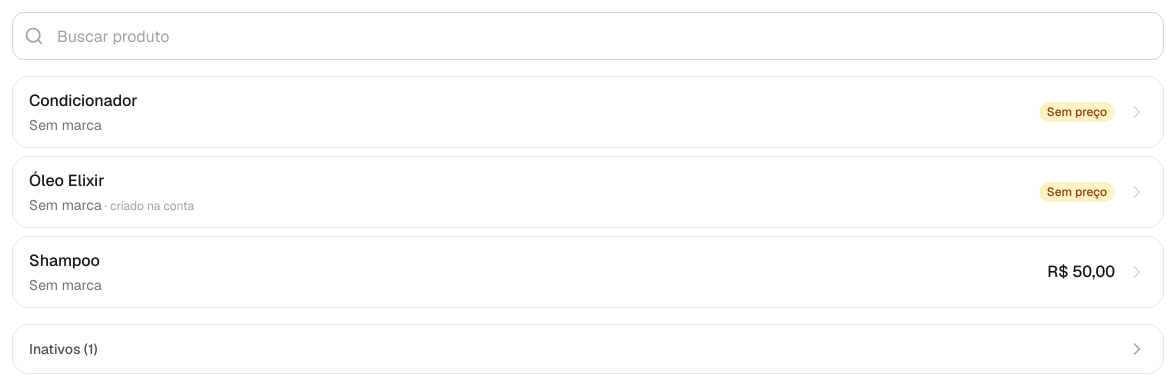
ListaProdutos › busca ignorando acento e caixa
This screenshot has width=1176, height=391.
Type "OLEO" into the search field labelled "Buscar produto" at (588, 36), box left=12, top=12, right=1164, bottom=60
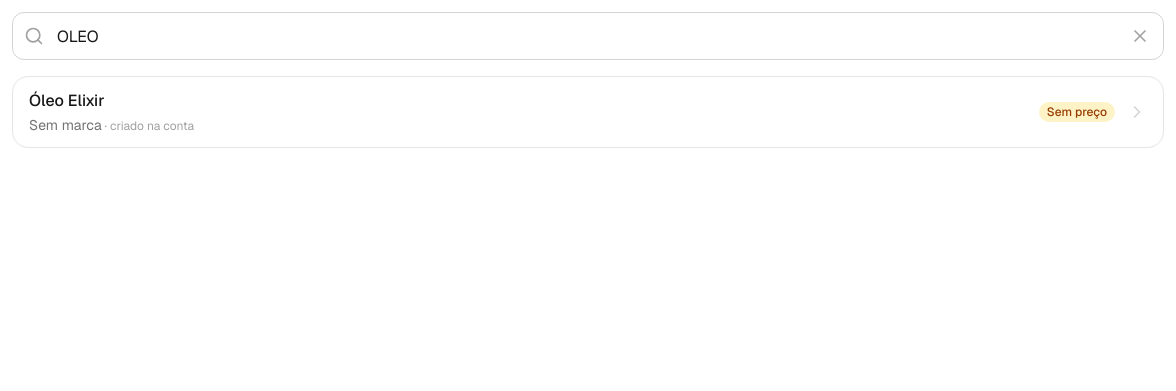
Check: the heading "Inativos" is gone
